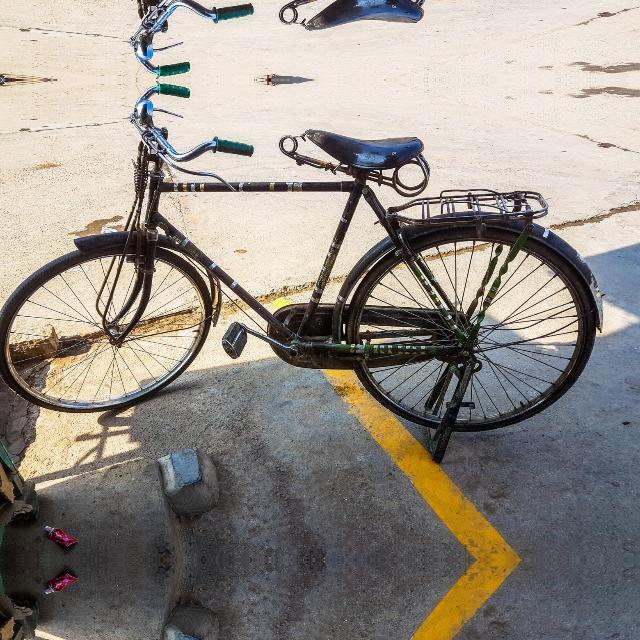obstacle: (9, 80, 612, 470), (8, 0, 611, 80)
